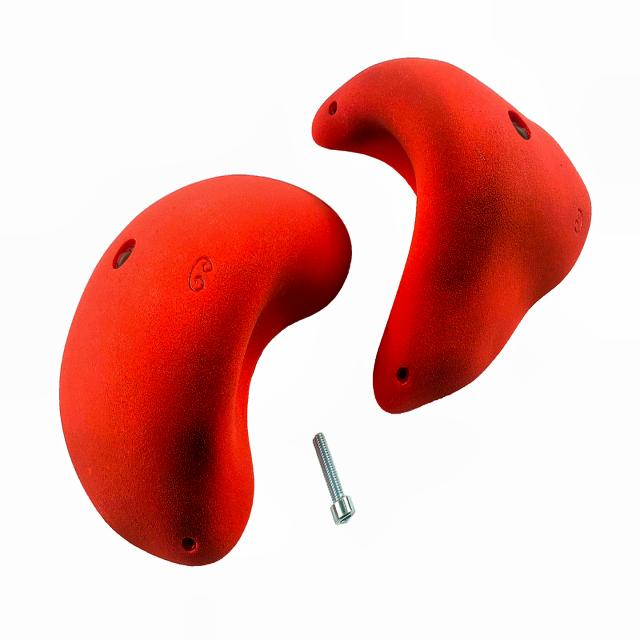Hold: (300, 39, 615, 429), (60, 173, 359, 568)
